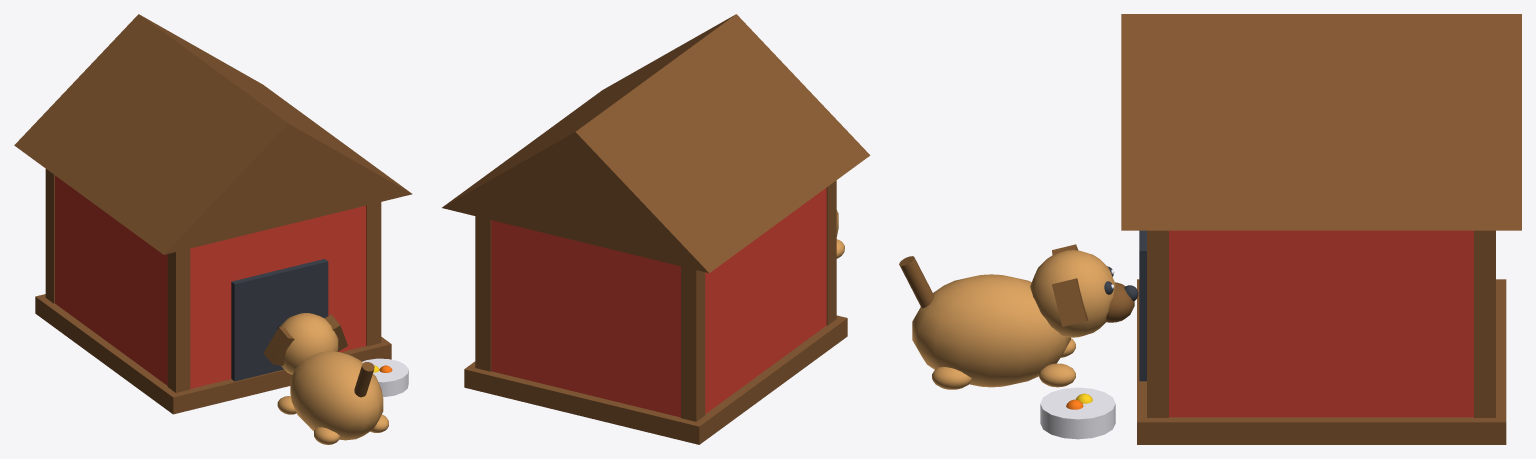
File: dog_house.glb
3 views of the same model, side by side, from view 1: azimuth 30°, elevation 25°; view 2: azimuth 150°, elevation 25°; view 3: azimuth 270°, elevation 25° (orthographic). The views are drawn at different scales.
Parts seen in each view (by area): view 1: Roof, Chassis, Doorway, Base, DogBody, _MeshInstance3D_3, _MeshInstance3D_5, DogHead, TrimPost, DogBowl, Ear, TailMesh; view 2: Roof, Chassis, Base, TrimPost, _MeshInstance3D_4, _MeshInstance3D_3; view 3: Roof, Chassis, DogBody, Base, DogHead, _MeshInstance3D_4, _MeshInstance3D_5, DogBowl, Doorway, _MeshInstance3D_9, TailMesh, DogMuzzle (+2 smaller).
Part boxes in pixels (x1,y1,x2,y2): Roof: (14, 14, 412, 254); Chassis: (55, 175, 366, 388); Doorway: (231, 259, 328, 381); Base: (35, 294, 391, 414); DogBody: (290, 351, 383, 440); _MeshInstance3D_3: (167, 248, 190, 392); _MeshInstance3D_5: (366, 202, 381, 346); DogHead: (280, 313, 338, 374); TrimPost: (45, 169, 54, 303); DogBowl: (362, 358, 408, 396); Ear: (263, 327, 294, 365); TailMesh: (354, 362, 374, 397); Roof: (442, 14, 870, 273); Chassis: (491, 188, 826, 417); Base: (464, 315, 847, 444); TrimPost: (681, 266, 705, 421); _MeshInstance3D_4: (475, 216, 491, 371); _MeshInstance3D_3: (826, 180, 836, 325); Roof: (1121, 14, 1521, 230); Chassis: (1169, 230, 1473, 417); DogBody: (912, 274, 1070, 387); Base: (1137, 279, 1506, 444); DogHead: (1030, 250, 1115, 337); _MeshInstance3D_4: (1474, 230, 1495, 417); _MeshInstance3D_5: (1147, 230, 1168, 417); DogBowl: (1040, 387, 1115, 439); Doorway: (1139, 230, 1146, 381); _MeshInstance3D_9: (1052, 278, 1088, 326); TailMesh: (899, 256, 934, 308); DogMuzzle: (1106, 282, 1134, 322).
Bounding box in the file's own units: 2.45 × 2.59 × 3.96.
